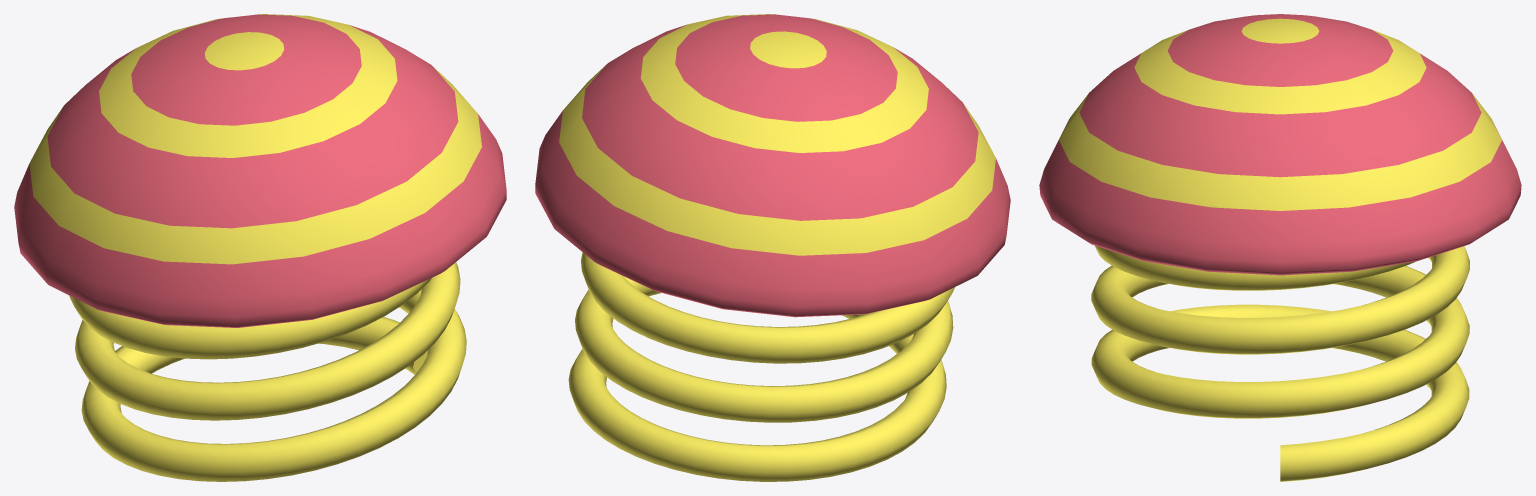
The model's file is Jumpadtry.fbx.
3 renders of one model, left to right at view 1: azimuth 30°, elevation 25°; view 2: azimuth 150°, elevation 25°; view 3: azimuth 270°, elevation 25°, orthographic. The views are drawn at different scales.
Parts seen in each view (by area): view 1: Jumppadgeo1; view 2: Jumppadgeo1; view 3: Jumppadgeo1.
Part boxes in pixels (x1,y1,x2,y2): Jumppadgeo1: (14, 14, 506, 481); Jumppadgeo1: (535, 14, 1010, 481); Jumppadgeo1: (1039, 14, 1521, 481).
Size of the model in its own units: 1.3 by 1.12 by 1.31.
